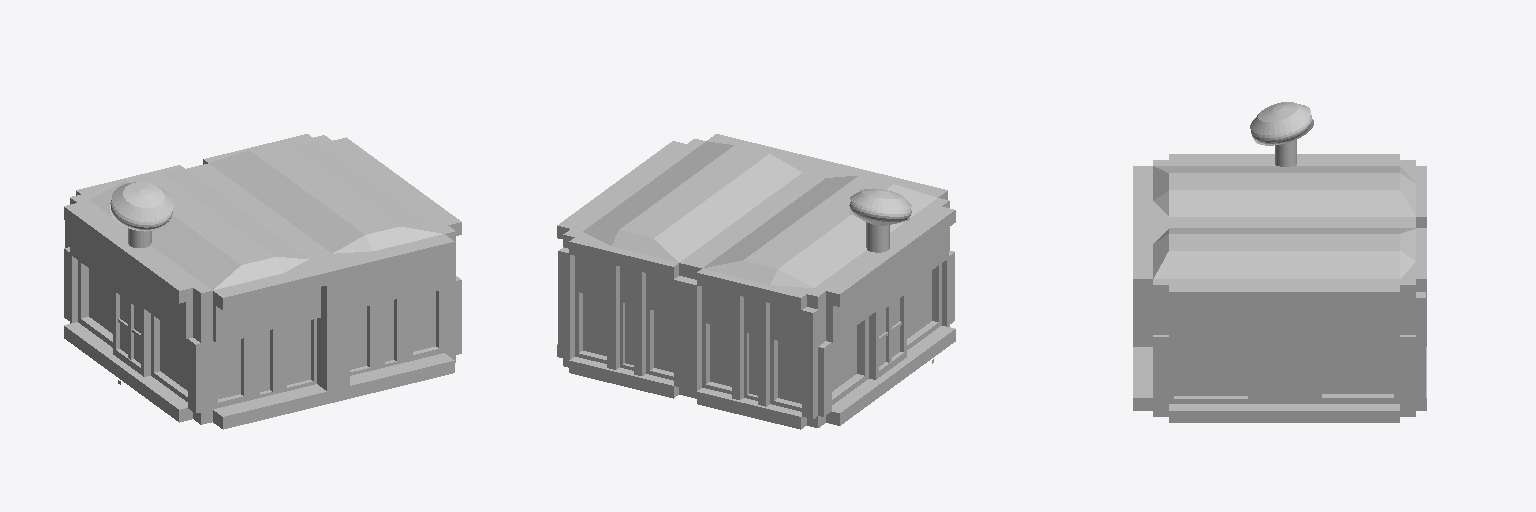
File: burgers4.obj
The picture shows the model from 3 angles: view 1: azimuth 30°, elevation 25°; view 2: azimuth 150°, elevation 25°; view 3: azimuth 270°, elevation 25°; orthographic projection.
Parts seen in each view (by area): view 1: Circle, Cube.002; view 2: Circle, Cube.002; view 3: Circle.
Boxes of the visible parts, box(x1,y1,x2,y2) form: Circle: box(64, 134, 461, 429); Cube.002: box(113, 286, 150, 376); Circle: box(557, 134, 955, 429); Cube.002: box(869, 289, 906, 379); Circle: box(1133, 102, 1426, 422).
Size of the model in its own units: 11.02 by 6.56 by 9.33.